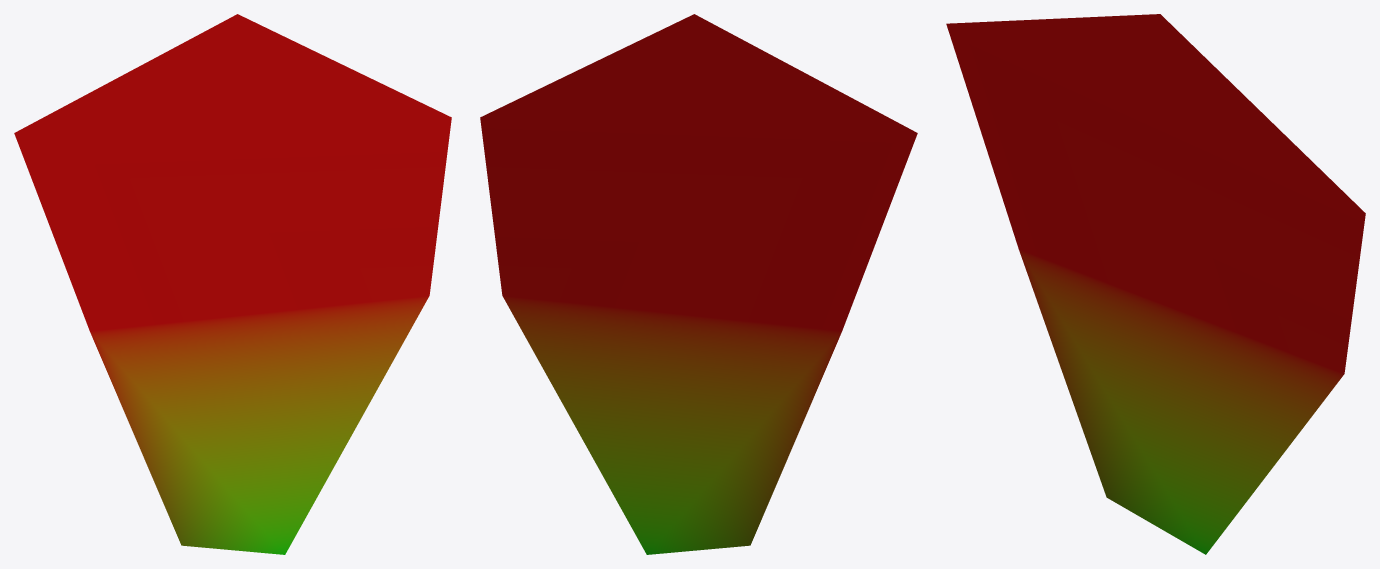
The model's file is European Spindle_LOD4_Var6.fbx.
3 views of the same model, side by side, from view 1: azimuth 30°, elevation 25°; view 2: azimuth 150°, elevation 25°; view 3: azimuth 330°, elevation 25° (orthographic). The views are drawn at different scales.
Parts seen in each view (by area): view 1: _iskh_Var6_LOD4; view 2: _iskh_Var6_LOD4; view 3: _iskh_Var6_LOD4.
Part boxes in pixels (x1=…): _iskh_Var6_LOD4: x1=14, y1=14, x2=451, y2=554; _iskh_Var6_LOD4: x1=480, y1=14, x2=917, y2=554; _iskh_Var6_LOD4: x1=946, y1=14, x2=1365, y2=554.
Size of the model in its own units: 62.9 by 75.88 by 1.46e-11.
